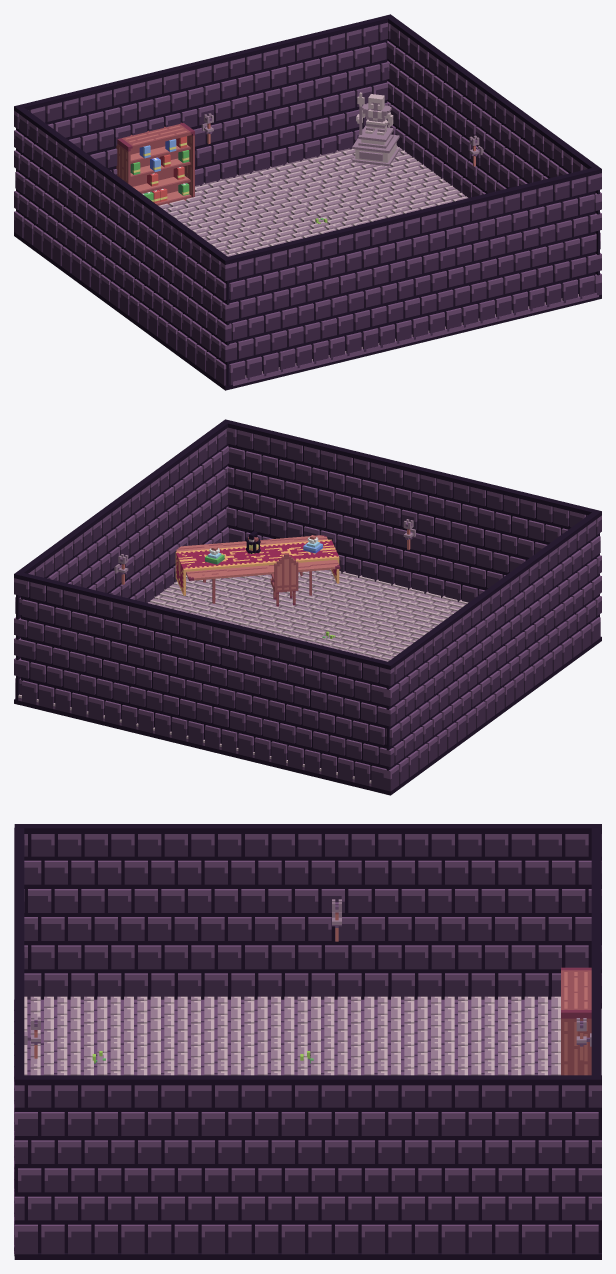
Rendered from map.glb.
3 views of the same model, one above another, from view 1: azimuth 30°, elevation 25°; view 2: azimuth 150°, elevation 25°; view 3: azimuth 270°, elevation 25° (orthographic). The views are drawn at different scales.
Visible parts, largest first — view 1: wall4, wall1, wall2, floor, wall3, bookcase, statue; view 2: wall1, wall4, wall2, floor, wall3; view 3: wall3, wall2, floor, bookcase, wall4, wall1.
Part boxes in pixels (x1,y1,x2,y2): wall4: (227,168,596,389); wall1: (19,16,388,185); wall2: (14,105,231,390); floor: (158,145,598,385); wall3: (385,14,601,299); bookcase: (116,122,194,205); statue: (352,92,399,166); wall1: (20,573,388,793); wall4: (227,421,595,602); wall2: (384,510,601,795); floor: (18,535,468,786); wall3: (14,419,230,704); wall3: (14,1075,601,1259); wall2: (14,824,601,1008); floor: (14,996,560,1253); bookcase: (561,967,591,1075); wall4: (14,827,24,1255); wall1: (591,827,601,1075).
Size of the model in its own units: 43.26 by 14.23 by 42.07.
14 materials, 14 textured.
